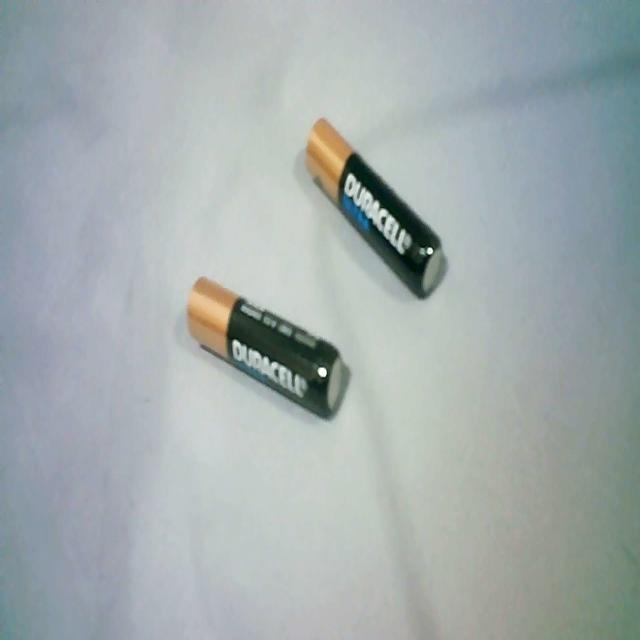AAA: (299, 107, 447, 305), (181, 268, 347, 424)
